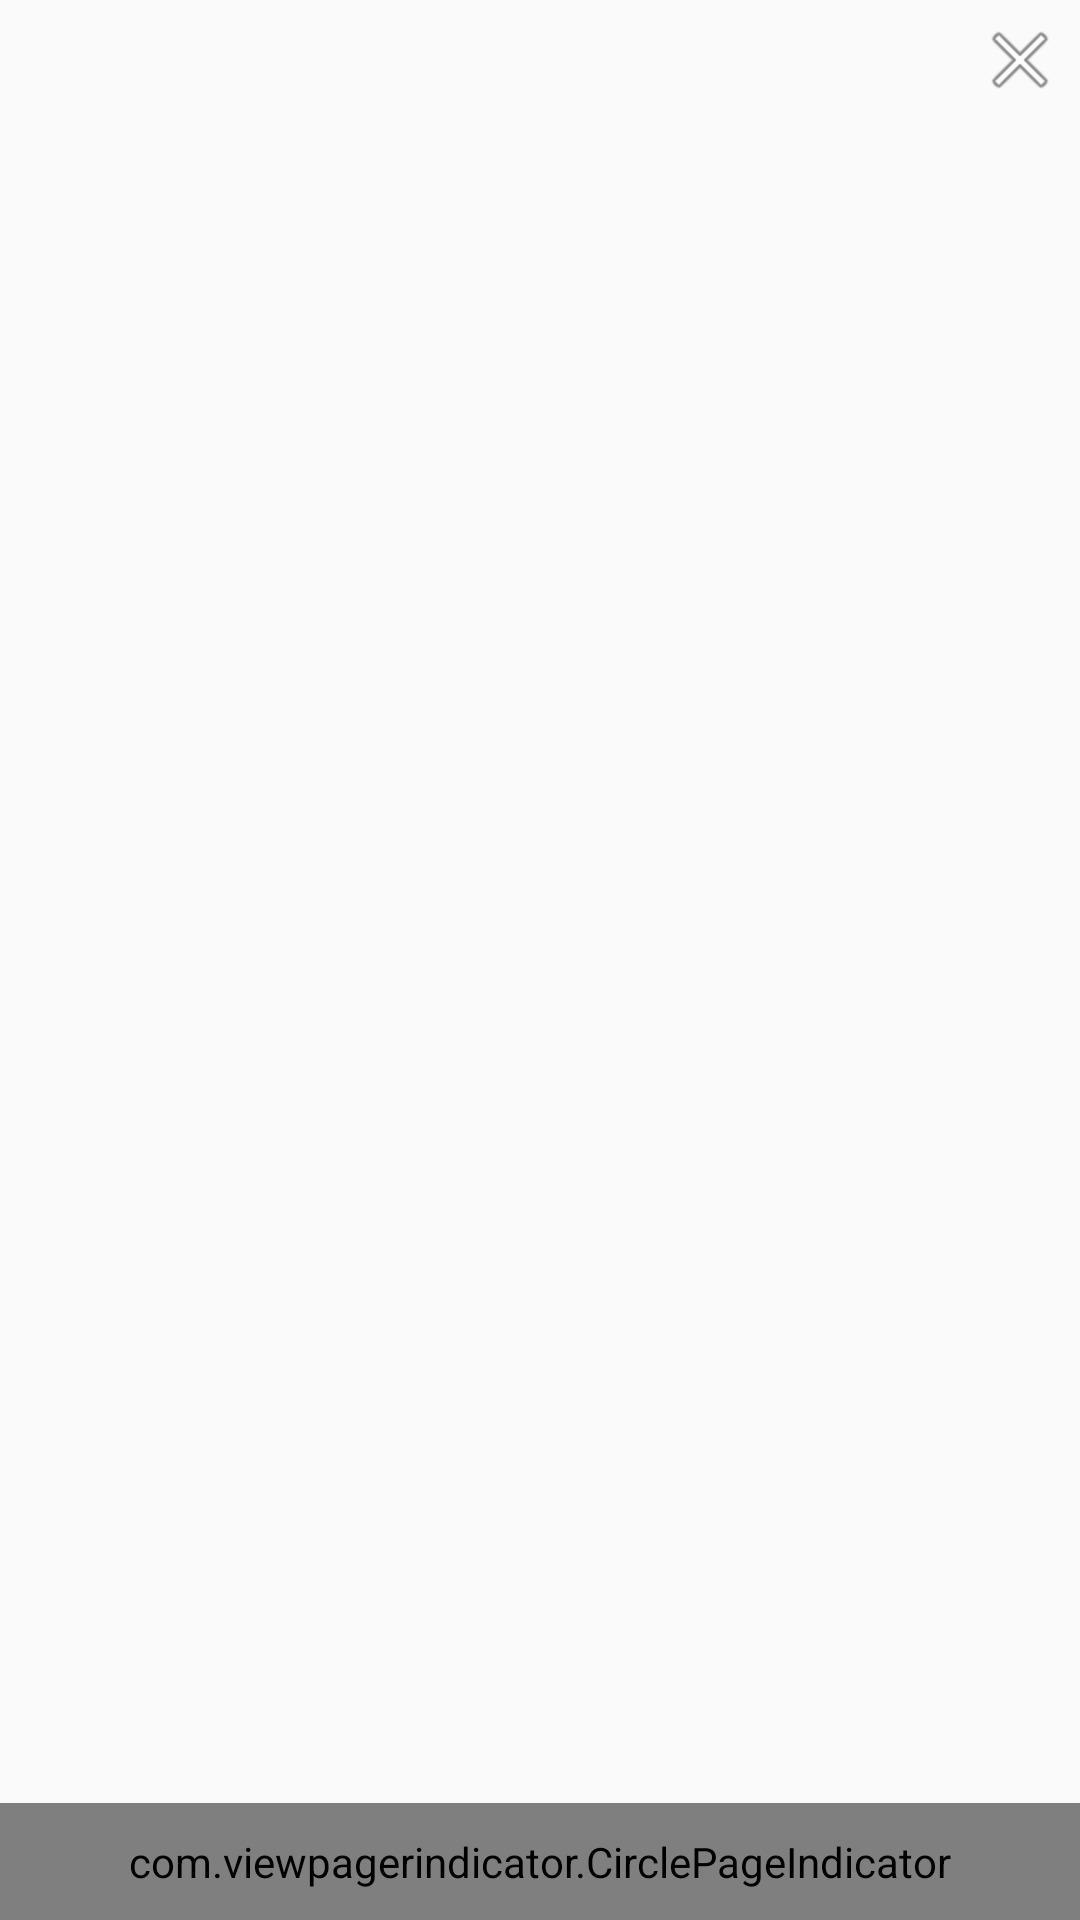

Named icons in this screenshot (1080px x 1920px) and their centers, [x,y]:
close clear cancel: [1020,60]
